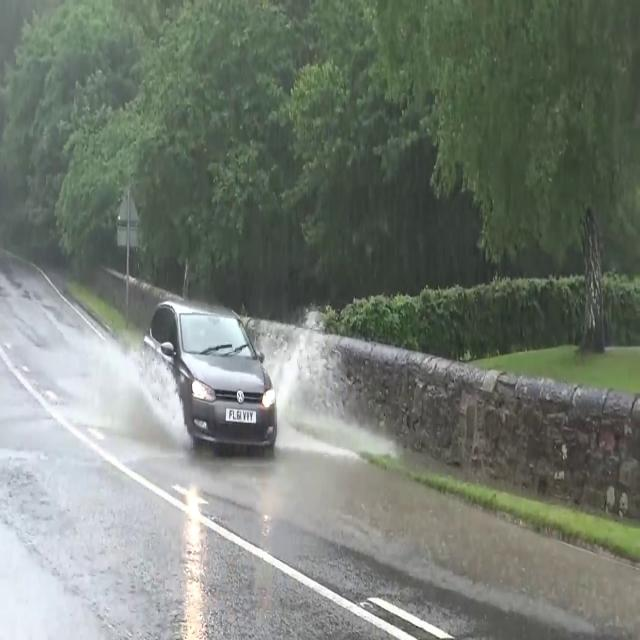license-plate-annotation: (226, 407, 258, 426)
